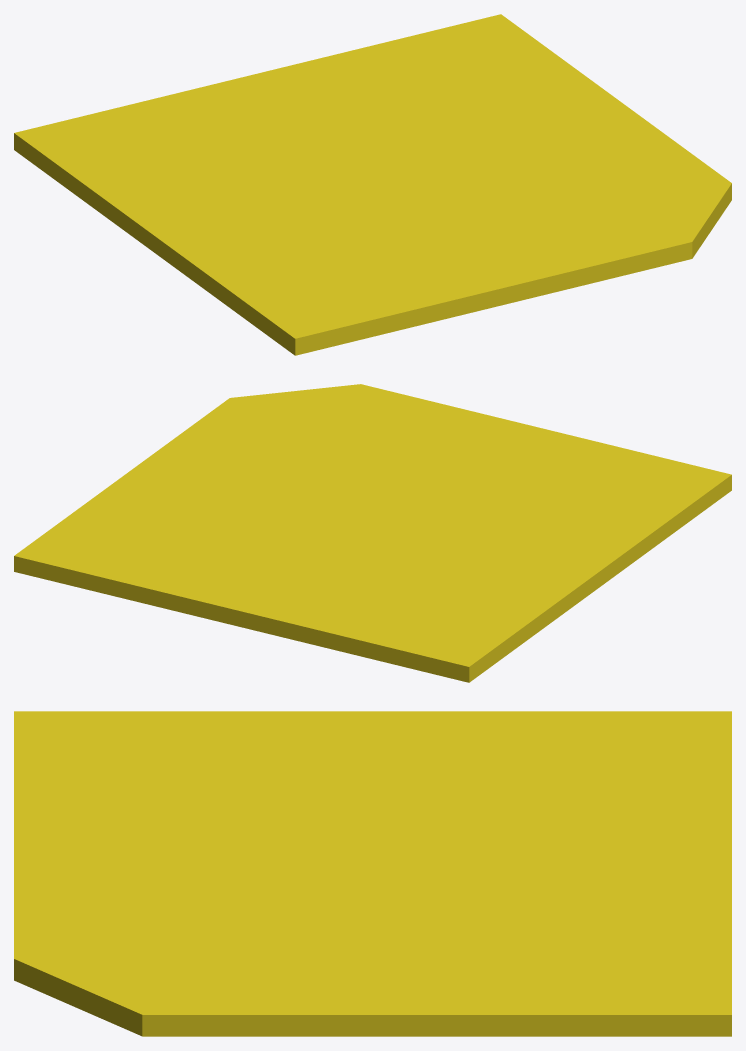
The model's file is StickyNote.fbx.
3 renders of one model, top to bottom at view 1: azimuth 30°, elevation 25°; view 2: azimuth 150°, elevation 25°; view 3: azimuth 270°, elevation 25°, orthographic. The views are drawn at different scales.
Visible parts, largest first — view 1: Cube; view 2: Cube; view 3: Cube.
Part boxes in pixels (x1=…): Cube: x1=14, y1=14, x2=731, y2=355; Cube: x1=14, y1=384, x2=731, y2=682; Cube: x1=14, y1=711, x2=731, y2=1036.
Size of the model in its own units: 60 by 2 by 60.
